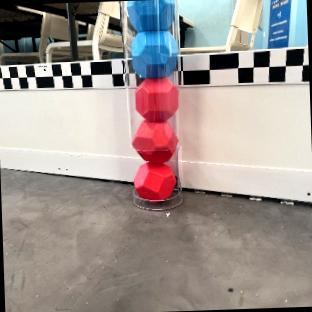Loader: (120, 0, 184, 211)
V5_BLUE: (132, 30, 176, 77), (128, 0, 174, 31)
V5_RED: (134, 73, 178, 123), (132, 119, 177, 162), (134, 161, 174, 201)
